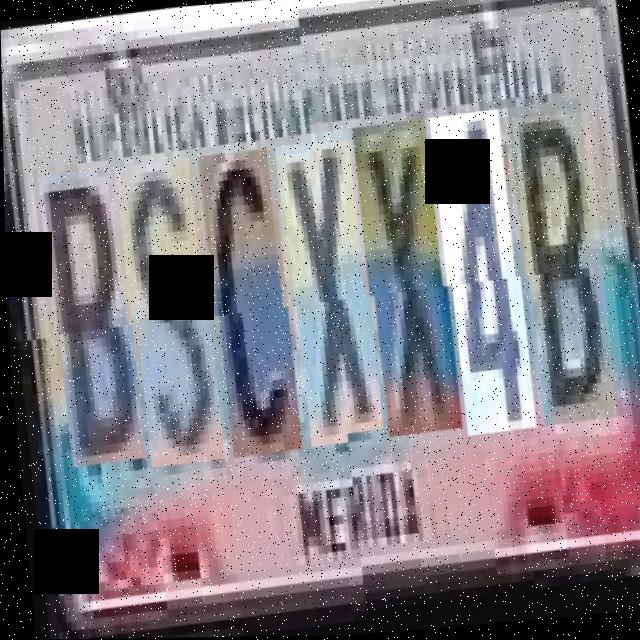4: (433, 123, 534, 450)
B: (511, 113, 616, 442), (40, 168, 143, 470)
C: (199, 151, 300, 460)
S: (118, 159, 221, 470)
X: (356, 131, 459, 451), (279, 140, 381, 451)
